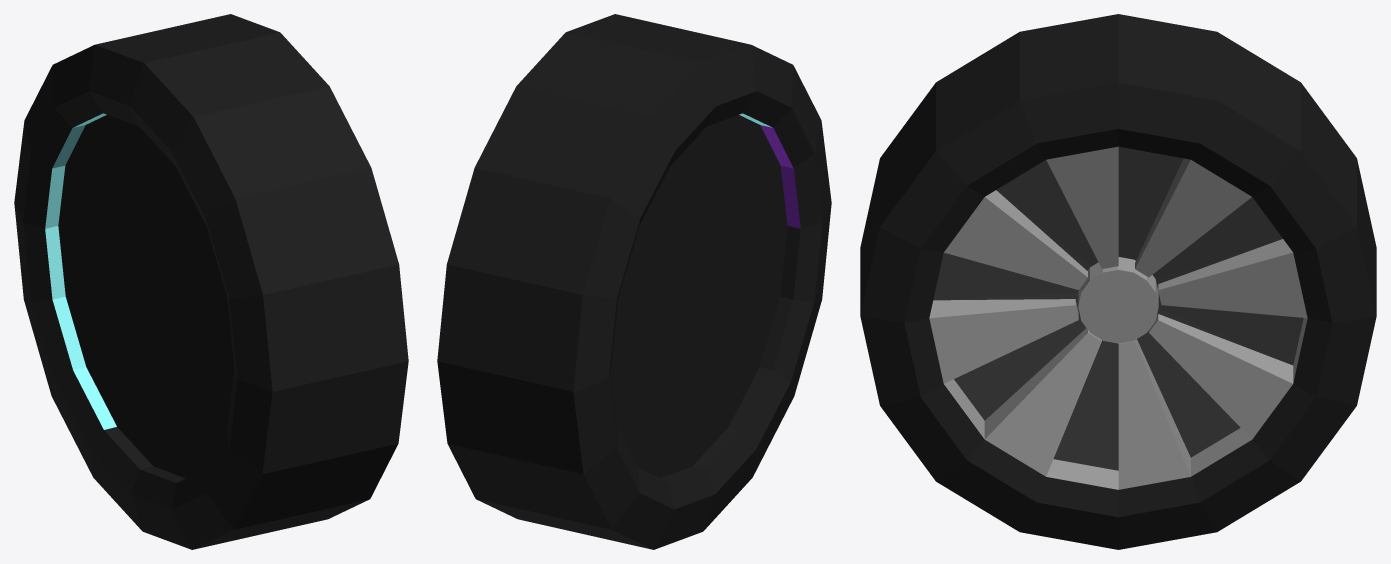
File: wheel of car.fbx
3 views of the same model, side by side, from view 1: azimuth 30°, elevation 25°; view 2: azimuth 150°, elevation 25°; view 3: azimuth 270°, elevation 25° (orthographic).
Parts seen in each view (by area): view 1: wheel of car; view 2: wheel of car; view 3: wheel of car.
Part boxes in pixels (x1,y1,x2,y2): wheel of car: (14,14,408,549); wheel of car: (437,14,831,549); wheel of car: (860,14,1376,549).
Size of the model in its own units: 24.08 by 66.35 by 66.
4 materials, 1 textured.
